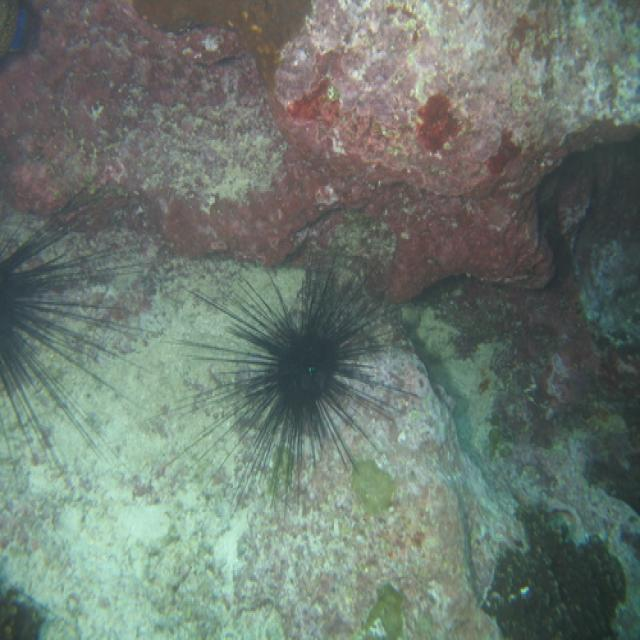Urchin: (158, 251, 442, 503)
